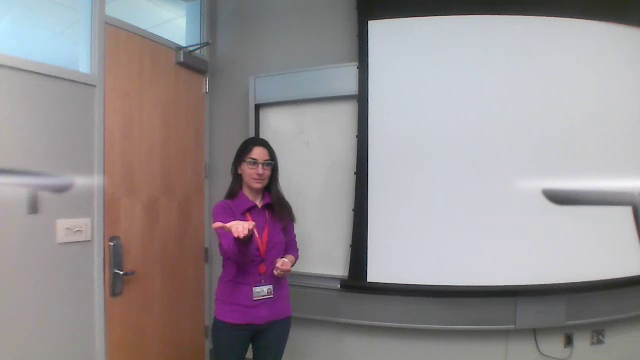land: (210, 212, 257, 244)
